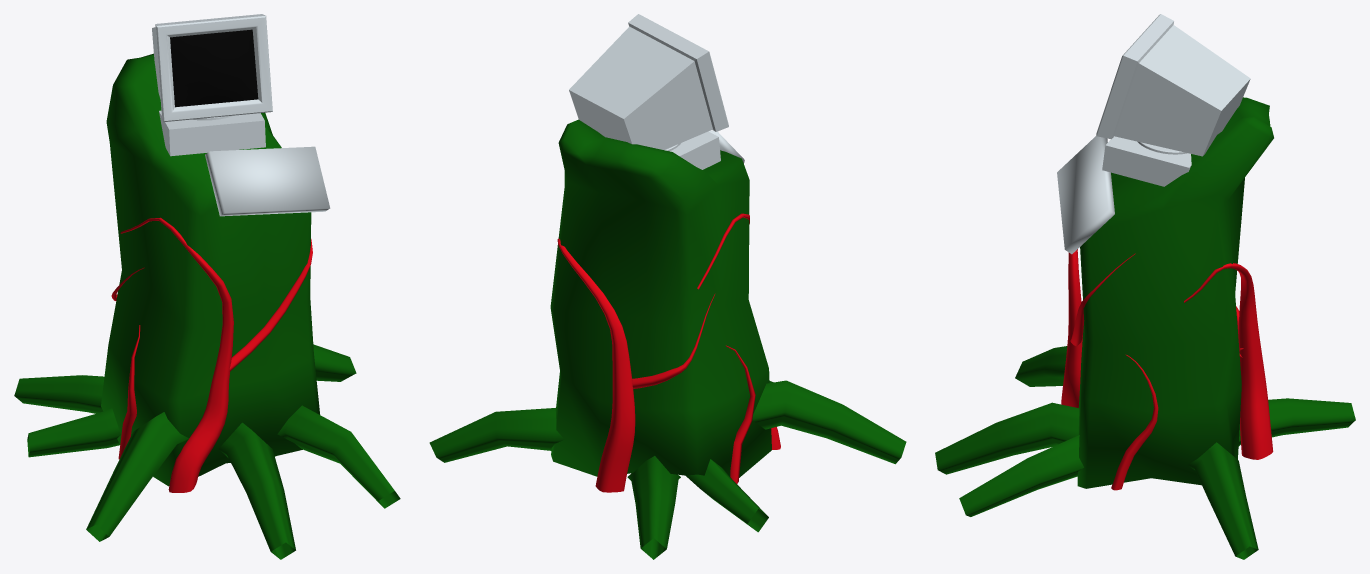
Rendered from terminal.fbx.
The picture shows the model from 3 angles, left to right: view 1: azimuth 30°, elevation 25°; view 2: azimuth 150°, elevation 25°; view 3: azimuth 270°, elevation 25°; orthographic projection.
Visible parts, largest first — view 1: Podium, Keyboard Normal Target.001, Monitor Screen.002, Monitor Joined.002, Vein 1, Root 1.006, Root 1.001, Root 1, console normal target.002, Root 1.004, Root 1.005, Vein 2 (+2 smaller); view 2: Podium, Monitor Joined.002, Root 1.006, Vein 1.001, Root 1.003, Root 1.005, Root 1.004, console normal target.002, Vein 2.003, Vein 2.002; view 3: Podium, Monitor Joined.002, Root 1.001, Vein 1.001, Keyboard Normal Target.001, Root 1, Root 1.003, console normal target.002, Root 1.005, Vein 1, Root 1.006, Vein 2.001 (+1 smaller).
Part boxes in pixels (x1,y1,x2,y2): Podium: (101, 53, 320, 486); Keyboard Normal Target.001: (205, 146, 330, 216); Monitor Screen.002: (170, 29, 258, 107); Monitor Joined.002: (152, 14, 272, 122); Vein 1: (120, 217, 233, 492); Root 1.006: (86, 412, 188, 541); Root 1.001: (219, 422, 295, 559); Root 1: (277, 405, 400, 508); console normal target.002: (159, 110, 265, 156); Root 1.004: (27, 408, 120, 457); Root 1.005: (14, 375, 104, 413); Vein 2: (229, 239, 312, 371); Podium: (550, 119, 771, 477); Monitor Joined.002: (569, 14, 728, 151); Root 1.006: (752, 380, 906, 464); Vein 1.001: (557, 238, 635, 492); Root 1.003: (429, 408, 564, 462); Root 1.005: (627, 456, 680, 559); Root 1.004: (686, 459, 768, 532); console normal target.002: (670, 131, 720, 169); Vein 2.003: (726, 345, 755, 483); Vein 2.002: (632, 293, 715, 388); Podium: (1077, 97, 1273, 488); Monitor Joined.002: (1096, 14, 1250, 156); Root 1.001: (935, 402, 1079, 474); Vein 1.001: (1184, 263, 1273, 459); Keyboard Normal Target.001: (1057, 135, 1114, 254); Root 1: (959, 435, 1083, 516); Root 1.003: (1188, 442, 1258, 559); console normal target.002: (1102, 136, 1191, 186); Root 1.005: (1238, 398, 1355, 446); Vein 1: (1061, 249, 1082, 407); Root 1.006: (1015, 346, 1067, 386); Vein 2.001: (1111, 354, 1158, 490).
Bounding box in the file's own units: 487 × 577 × 483.
